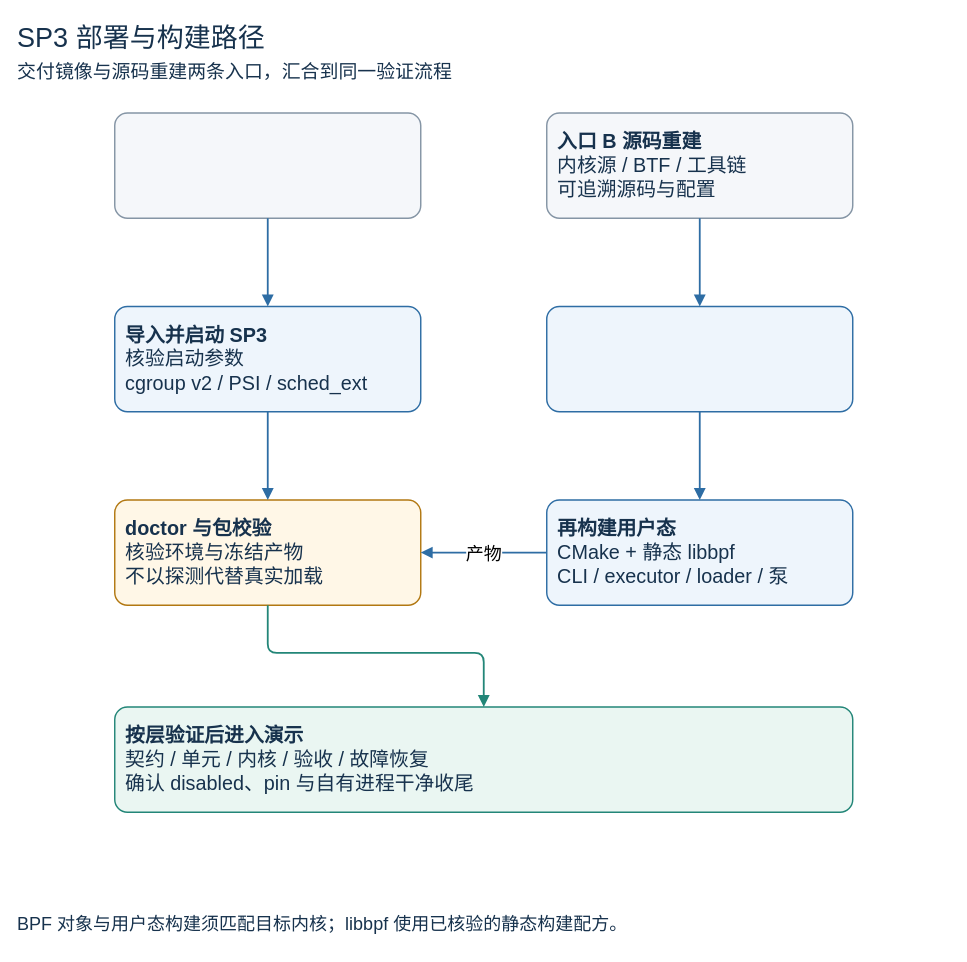
Some shapes in this 967 by 962 pixel diagram are drawn without their labels. The centre of each missing label's shape, as x and y in pixels:
先构建 BPF object → skeleton 记录对象与工具链哈希: [699,358]
入口 A 交付镜像 qcow2 / domain.xml SHA256SUMS: [267,165]
